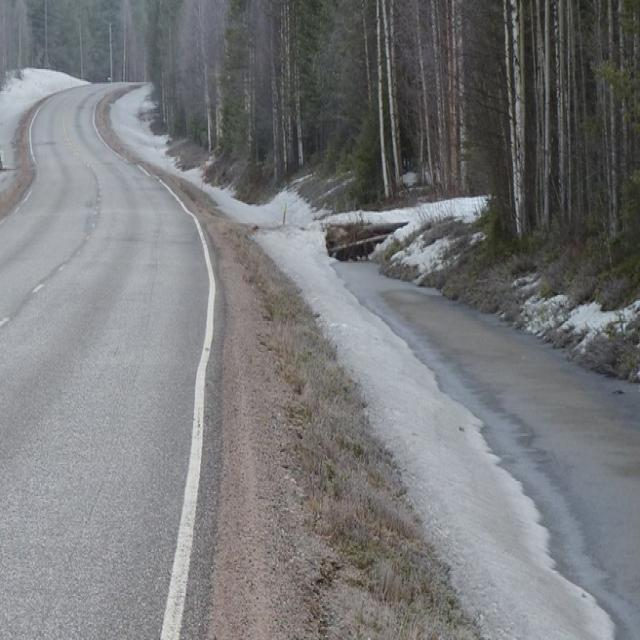Pothole: (159, 243, 370, 640)
